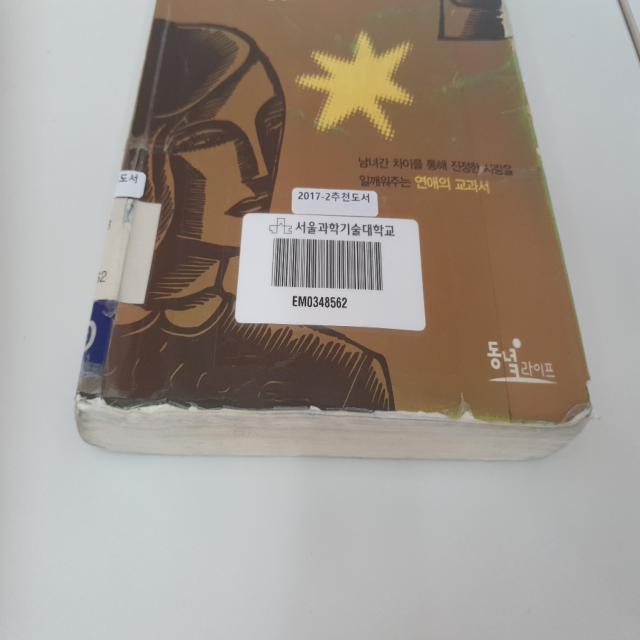Ripped: (558, 372, 602, 429), (439, 388, 488, 425)
Wornout: (70, 389, 206, 420), (325, 394, 438, 427), (205, 391, 324, 422), (488, 413, 559, 436), (494, 0, 518, 53), (531, 138, 547, 164)
